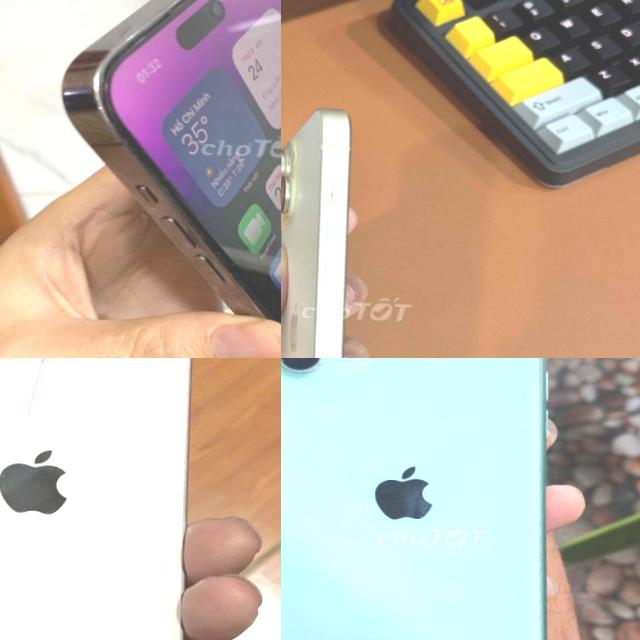gen_11: (281, 358, 546, 640)
gen_12_13: (0, 358, 230, 640)
gen_14: (46, 0, 281, 358)
gen_15: (281, 102, 376, 358)
